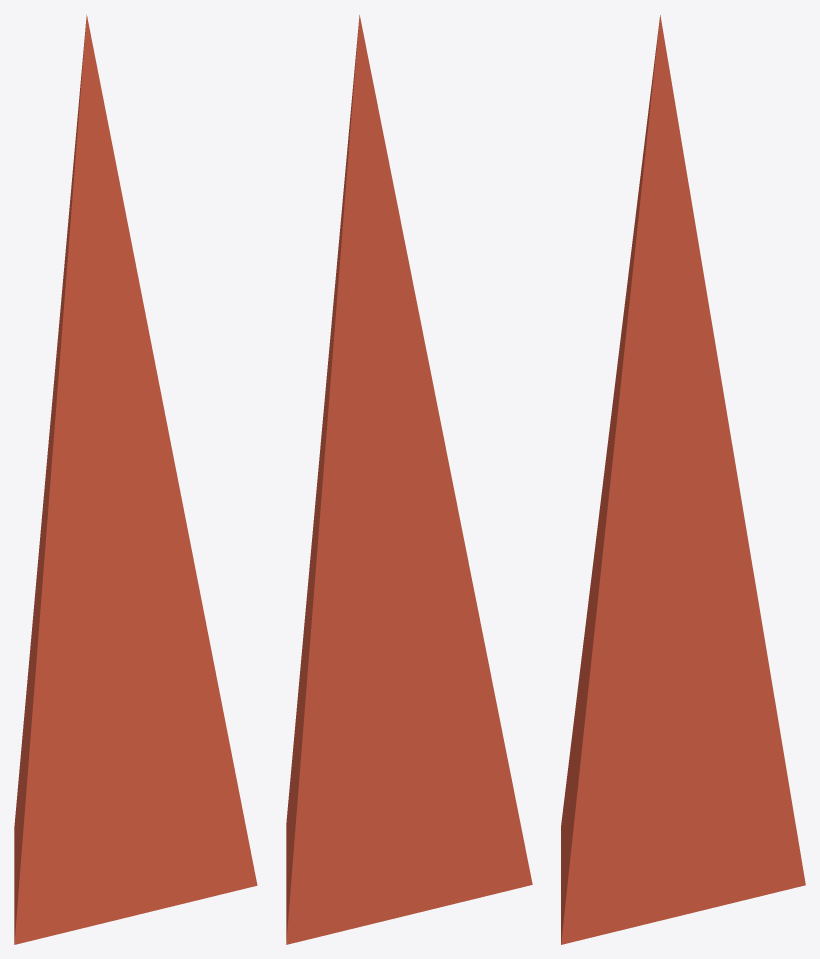
The model's file is gai.fbx.
3 renders of one model, left to right at view 1: azimuth 30°, elevation 25°; view 2: azimuth 150°, elevation 25°; view 3: azimuth 270°, elevation 25°, orthographic.
Visible parts, largest first — view 1: Cube.633; view 2: Cube.633; view 3: Cube.633.
Part boxes in pixels (box(x1,y1,x2,y2)): Cube.633: box(14, 14, 257, 944); Cube.633: box(286, 15, 532, 944); Cube.633: box(561, 15, 805, 944).
Size of the model in its own units: 40.83 by 139 by 35.36.
